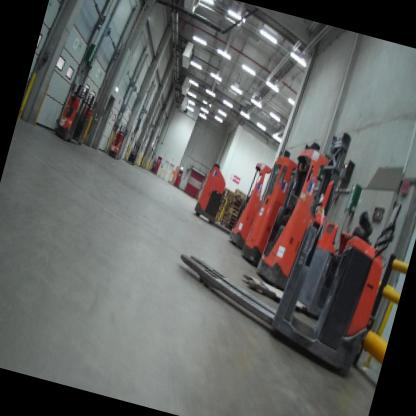forklift: (251, 128, 346, 301), (233, 144, 324, 283), (221, 142, 285, 260)
pallet_truck: (146, 145, 406, 384), (235, 192, 366, 324), (184, 155, 252, 236), (45, 68, 103, 150), (104, 120, 133, 160), (123, 139, 143, 168)
